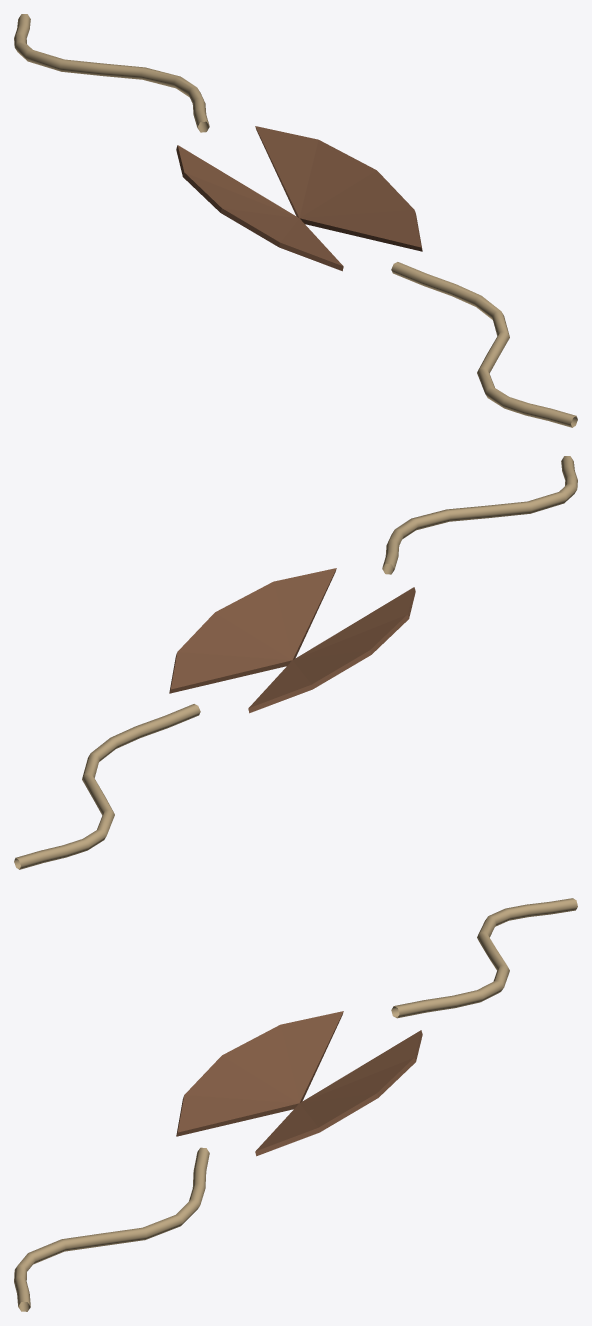
Rendered from sling-split-pouch.glb.
The picture shows the model from 3 angles, top to bottom: view 1: azimuth 30°, elevation 25°; view 2: azimuth 150°, elevation 25°; view 3: azimuth 330°, elevation 25°; orthographic projection.
Parts seen in each view (by area): view 1: sling-split-pouch runtime mesh; view 2: sling-split-pouch runtime mesh; view 3: sling-split-pouch runtime mesh.
Part boxes in pixels (x1=…): sling-split-pouch runtime mesh: x1=14, y1=14, x2=577, y2=427; sling-split-pouch runtime mesh: x1=14, y1=456, x2=577, y2=869; sling-split-pouch runtime mesh: x1=14, y1=898, x2=577, y2=1311.
Size of the model in its own units: 0.1427 by 0.0313 by 0.8645.
